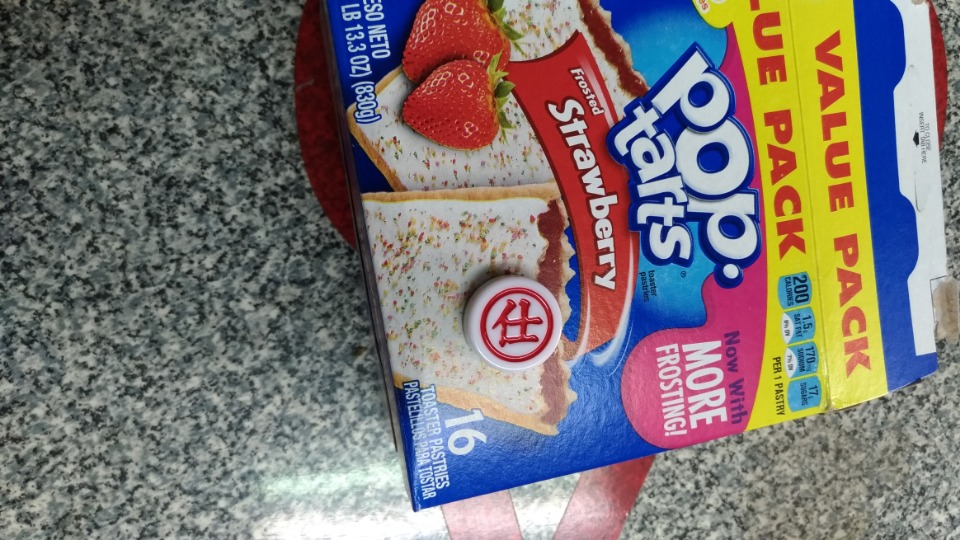r-advisor: (453, 269, 583, 377)
